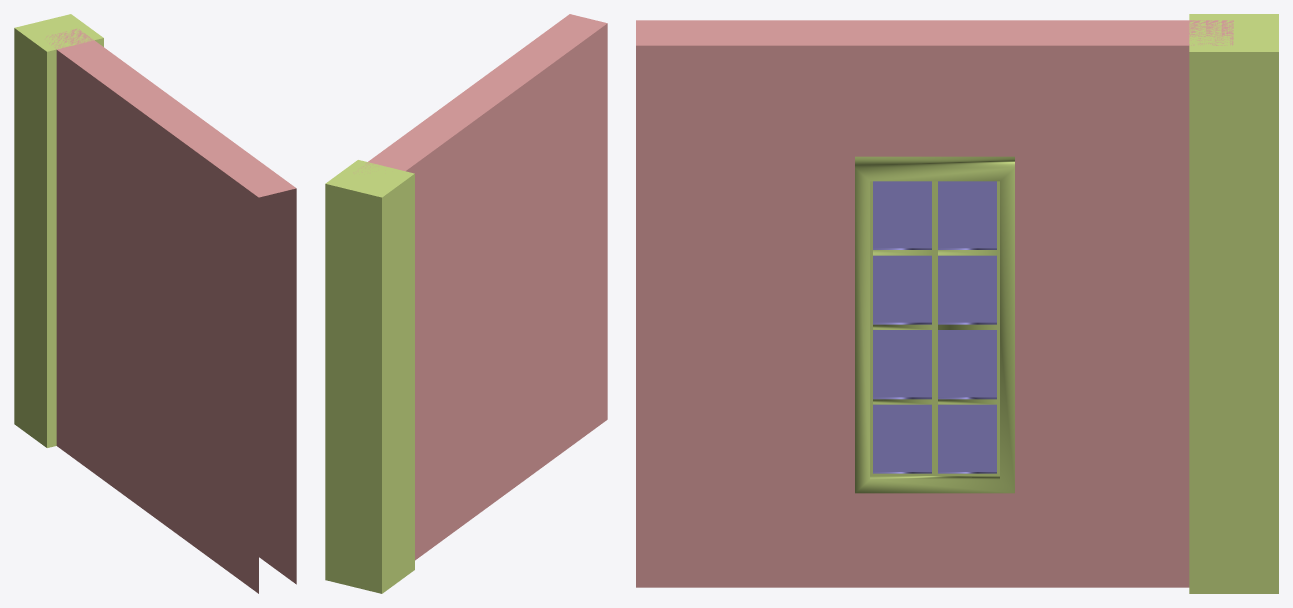
The model's file is WallWindow.fbx.
The picture shows the model from 3 angles, left to right: view 1: azimuth 30°, elevation 25°; view 2: azimuth 150°, elevation 25°; view 3: azimuth 270°, elevation 25°; orthographic projection. The views are drawn at different scales.
Parts seen in each view (by area): view 1: Beam.002; view 2: Beam.002; view 3: Beam.002.
Boxes of the visible parts, box(x1,y1,x2,y2) form: Beam.002: box(14, 14, 296, 593); Beam.002: box(325, 14, 607, 593); Beam.002: box(636, 14, 1278, 593).
Size of the model in its own units: 34.36 by 200 by 215.
